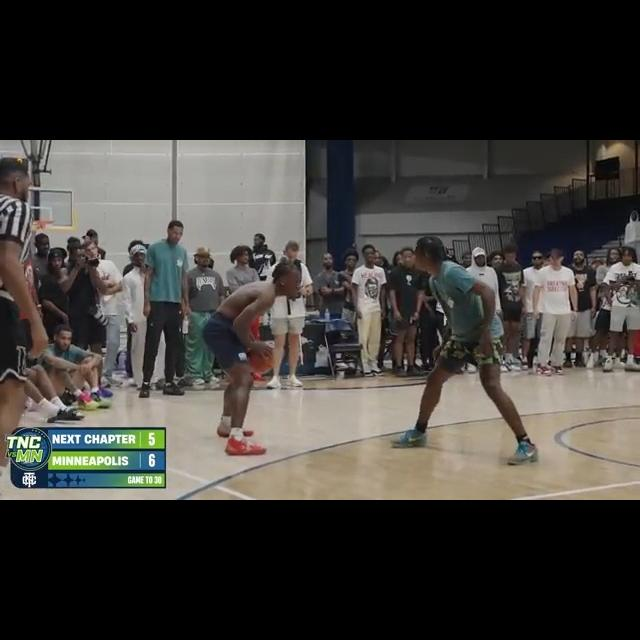basketball: (247, 343, 274, 371)
